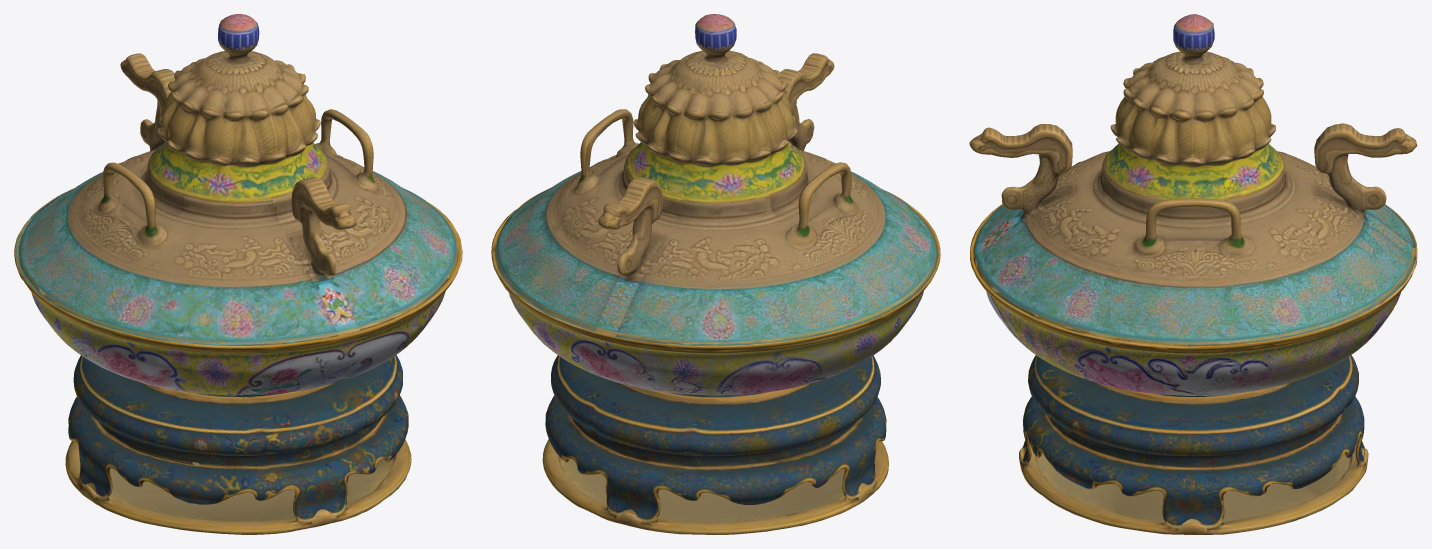
The model's file is 乾隆款画珐琅开光山水花鸟图盖碗.glb.
The picture shows the model from 3 angles, left to right: view 1: azimuth 30°, elevation 25°; view 2: azimuth 150°, elevation 25°; view 3: azimuth 270°, elevation 25°; orthographic projection.
Parts seen in each view (by area): view 1: tripo_node_c6633253; view 2: tripo_node_c6633253; view 3: tripo_node_c6633253.
Part boxes in pixels (bbox=[...]): tripo_node_c6633253: bbox=[14, 14, 462, 534]; tripo_node_c6633253: bbox=[491, 14, 940, 534]; tripo_node_c6633253: bbox=[969, 14, 1417, 534].
Bounding box in the file's own units: 89.07 × 97.76 × 88.94.
Materials: 1 (1 with a texture image).
